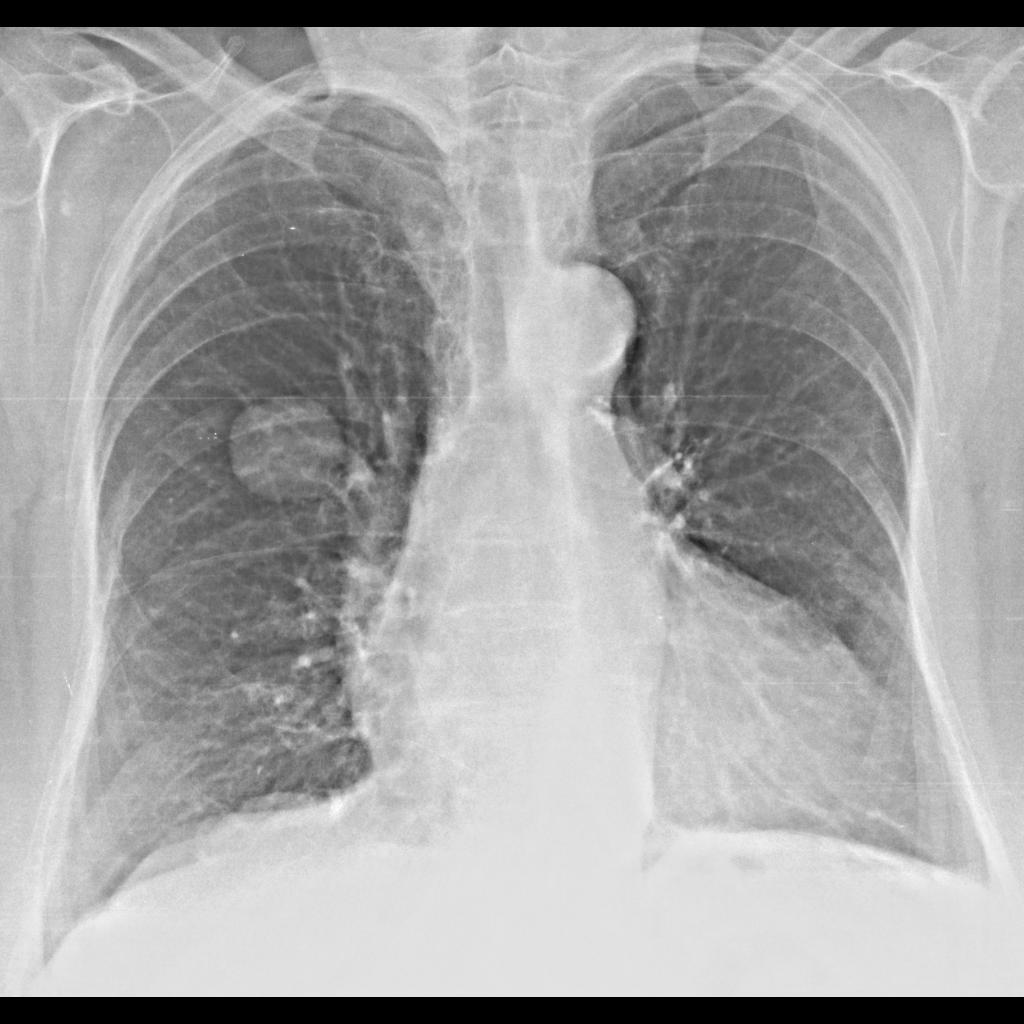Nodule: (222, 387, 358, 508)
